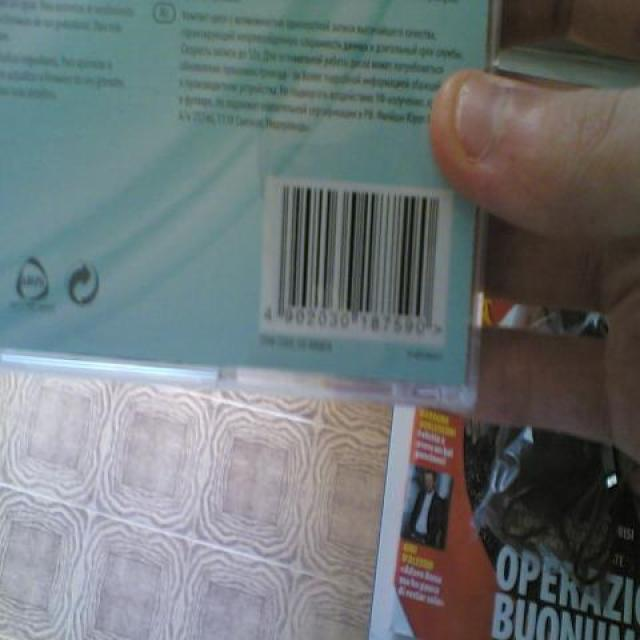Barcode: (257, 176, 456, 349)
